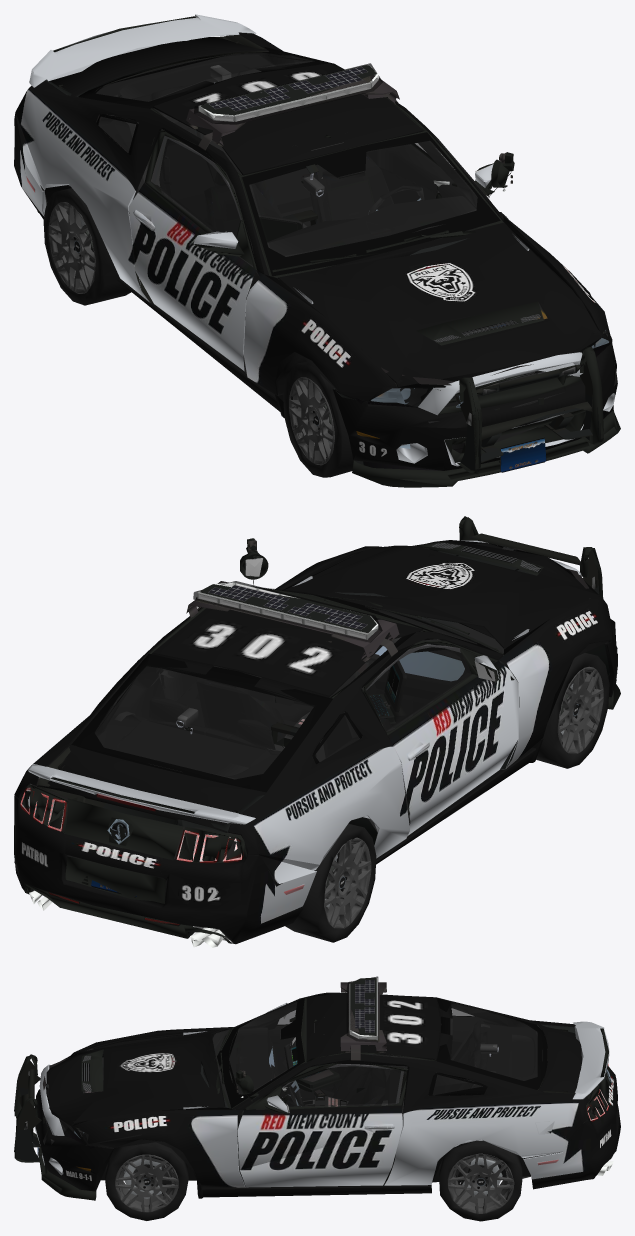
The model's file is shelby-police-mobile.glb.
3 renders of one model, top to bottom at view 1: azimuth 30°, elevation 25°; view 2: azimuth 150°, elevation 25°; view 3: azimuth 270°, elevation 25°, orthographic. The views are drawn at different scales.
Visible parts, largest first — view 1: COP:car_ford_shelbygt500_2013_enforcer_Mesh_lod0M_Paint_Meta, COP:car_ford_shelbygt500_2013_enforcer_Mesh_lod0M_Glass_Wind (×2), COP:car_ford_shelbygt500_2013_enforcer_Mesh_lod0M_Internal_E, COP:car_ford_shelbygt500_2013_enforcer_Mesh_lod0M_Opaque_Pla, COP:car_ford_shelbygt500_2013_enforcer_Mesh_lod0M_Paint_Plas, COP:car_ford_shelbygt500_2013_enforcer_Mesh_lod0M_Glass_Mirr, COP:car_ford_shelbygt500_2013_enforcer_Mesh_lod0M_Rim_High_r, COP:M_Tire_Highcar_ford_shelbygt500_2013_enforcer_Mesh_lod0_, COP:car_ford_shelbygt500_2013_enforcer_Mesh_lod0M_CopProps_H, COP:car_ford_shelbygt500_2013_enforcer_Mesh_lod0M_Chassis_Hi, COP:car_ford_shelbygt500_2013_enforcer_Mesh_lod0M_LicensePla, COP:car_ford_shelbygt500_2013_enforcer_Mesh_lod0M_LightClust (+1 smaller); view 2: COP:car_ford_shelbygt500_2013_enforcer_Mesh_lod0M_Paint_Meta, COP:car_ford_shelbygt500_2013_enforcer_Mesh_lod0M_Opaque_Pla, COP:car_ford_shelbygt500_2013_enforcer_Mesh_lod0M_Glass_Wind (×3), COP:car_ford_shelbygt500_2013_enforcer_Mesh_lod0M_Internal_E, COP:car_ford_shelbygt500_2013_enforcer_Mesh_lod0M_Paint_Plas, COP:car_ford_shelbygt500_2013_enforcer_Mesh_lod0M_Glass_Mirr, COP:car_ford_shelbygt500_2013_enforcer_Mesh_lod0M_Rim_High_r, COP:M_Tire_Highcar_ford_shelbygt500_2013_enforcer_Mesh_lod0_, COP:car_ford_shelbygt500_2013_enforcer_Mesh_lod0M_CopProps_H, COP:car_ford_shelbygt500_2013_enforcer_Mesh_lod0M_CopLights_, COP:car_ford_shelbygt500_2013_enforcer_Mesh_lod0M_Chassis_Hi, COP:car_ford_shelbygt500_2013_enforcer_Mesh_lod0M_LightRefra; view 3: COP:car_ford_shelbygt500_2013_enforcer_Mesh_lod0M_Paint_Meta, COP:car_ford_shelbygt500_2013_enforcer_Mesh_lod0M_Glass_Wind (×2), COP:car_ford_shelbygt500_2013_enforcer_Mesh_lod0M_Internal_E, COP:car_ford_shelbygt500_2013_enforcer_Mesh_lod0M_Opaque_Pla, COP:car_ford_shelbygt500_2013_enforcer_Mesh_lod0M_Paint_Plas, COP:car_ford_shelbygt500_2013_enforcer_Mesh_lod0M_Rim_High_r, COP:M_Tire_Highcar_ford_shelbygt500_2013_enforcer_Mesh_lod0_, COP:car_ford_shelbygt500_2013_enforcer_Mesh_lod0M_Glass_Mirr, COP:car_ford_shelbygt500_2013_enforcer_Mesh_lod0M_CopProps_H, COP:car_ford_shelbygt500_2013_enforcer_Mesh_lod0M_Chassis_Hi, COP:car_ford_shelbygt500_2013_enforcer_Mesh_lod0M_BrakeDisc_.
Part boxes in pixels (<box>): COP:car_ford_shelbygt500_2013_enforcer_Mesh_lod0M_Paint_Meta: <box>15,14,611,417</box>; COP:car_ford_shelbygt500_2013_enforcer_Mesh_lod0M_Glass_Wind (×2): <box>96,53,610,423</box>; COP:car_ford_shelbygt500_2013_enforcer_Mesh_lod0M_Internal_E: <box>96,35,547,385</box>; COP:car_ford_shelbygt500_2013_enforcer_Mesh_lod0M_Opaque_Pla: <box>37,16,620,487</box>; COP:car_ford_shelbygt500_2013_enforcer_Mesh_lod0M_Paint_Plas: <box>14,113,617,470</box>; COP:car_ford_shelbygt500_2013_enforcer_Mesh_lod0M_Glass_Mirr: <box>78,52,500,276</box>; COP:car_ford_shelbygt500_2013_enforcer_Mesh_lod0M_Rim_High_r: <box>48,202,334,465</box>; COP:M_Tire_Highcar_ford_shelbygt500_2013_enforcer_Mesh_lod0_: <box>43,188,353,477</box>; COP:car_ford_shelbygt500_2013_enforcer_Mesh_lod0M_CopProps_H: <box>188,65,575,425</box>; COP:car_ford_shelbygt500_2013_enforcer_Mesh_lod0M_Chassis_Hi: <box>22,151,612,470</box>; COP:car_ford_shelbygt500_2013_enforcer_Mesh_lod0M_LicensePla: <box>500,437,546,472</box>; COP:car_ford_shelbygt500_2013_enforcer_Mesh_lod0M_LightClust: <box>368,330,610,448</box>; COP:car_ford_shelbygt500_2013_enforcer_Mesh_lod0M_Paint_Meta: <box>14,540,612,870</box>; COP:car_ford_shelbygt500_2013_enforcer_Mesh_lod0M_Opaque_Pla: <box>14,516,620,947</box>; COP:car_ford_shelbygt500_2013_enforcer_Mesh_lod0M_Glass_Wind (×3): <box>21,556,596,924</box>; COP:car_ford_shelbygt500_2013_enforcer_Mesh_lod0M_Internal_E: <box>30,547,590,859</box>; COP:car_ford_shelbygt500_2013_enforcer_Mesh_lod0M_Paint_Plas: <box>14,540,617,944</box>; COP:car_ford_shelbygt500_2013_enforcer_Mesh_lod0M_Glass_Mirr: <box>71,588,497,792</box>; COP:car_ford_shelbygt500_2013_enforcer_Mesh_lod0M_Rim_High_r: <box>324,666,603,929</box>; COP:M_Tire_Highcar_ford_shelbygt500_2013_enforcer_Mesh_lod0_: <box>285,653,609,942</box>; COP:car_ford_shelbygt500_2013_enforcer_Mesh_lod0M_CopProps_H: <box>177,558,595,761</box>; COP:car_ford_shelbygt500_2013_enforcer_Mesh_lod0M_CopLights_: <box>198,583,366,638</box>; COP:car_ford_shelbygt500_2013_enforcer_Mesh_lod0M_Chassis_Hi: <box>15,629,612,940</box>; COP:car_ford_shelbygt500_2013_enforcer_Mesh_lod0M_LightRefra: <box>20,789,241,861</box>; COP:car_ford_shelbygt500_2013_enforcer_Mesh_lod0M_Paint_Meta: <box>46,992,609,1198</box>; COP:car_ford_shelbygt500_2013_enforcer_Mesh_lod0M_Glass_Wind (×2): <box>25,976,540,1144</box>; COP:car_ford_shelbygt500_2013_enforcer_Mesh_lod0M_Internal_E: <box>43,1002,596,1116</box>; COP:car_ford_shelbygt500_2013_enforcer_Mesh_lod0M_Opaque_Pla: <box>14,977,615,1200</box>; COP:car_ford_shelbygt500_2013_enforcer_Mesh_lod0M_Paint_Plas: <box>34,1064,620,1191</box>; COP:car_ford_shelbygt500_2013_enforcer_Mesh_lod0M_Rim_High_r: <box>115,1153,514,1213</box>; COP:M_Tire_Highcar_ford_shelbygt500_2013_enforcer_Mesh_lod0_: <box>105,1140,522,1221</box>; COP:car_ford_shelbygt500_2013_enforcer_Mesh_lod0M_Glass_Mirr: <box>217,998,547,1108</box>; COP:car_ford_shelbygt500_2013_enforcer_Mesh_lod0M_CopProps_H: <box>24,980,497,1129</box>; COP:car_ford_shelbygt500_2013_enforcer_Mesh_lod0M_Chassis_Hi: <box>44,1029,596,1192</box>; COP:car_ford_shelbygt500_2013_enforcer_Mesh_lod0M_BrakeDisc_: <box>123,1157,502,1198</box>.
Size of the model in its own units: 0.0204 by 0.0152 by 0.0494.
Materials: 22 (13 with a texture image).
